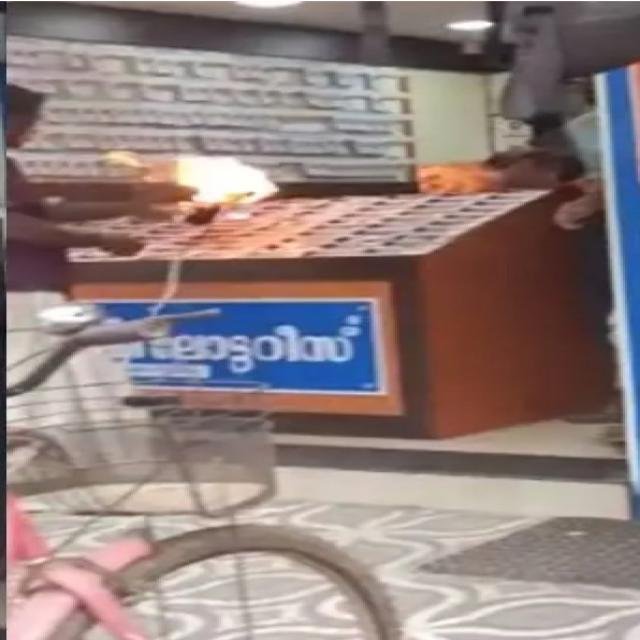fire: (177, 154, 280, 221), (414, 163, 505, 197)
